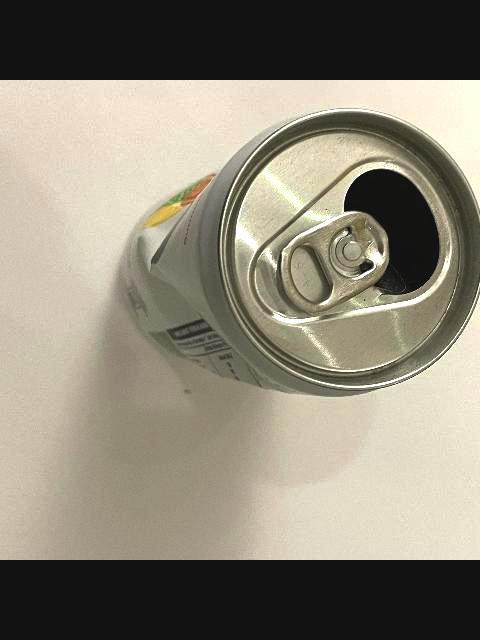drinkcan: (114, 103, 480, 398)
